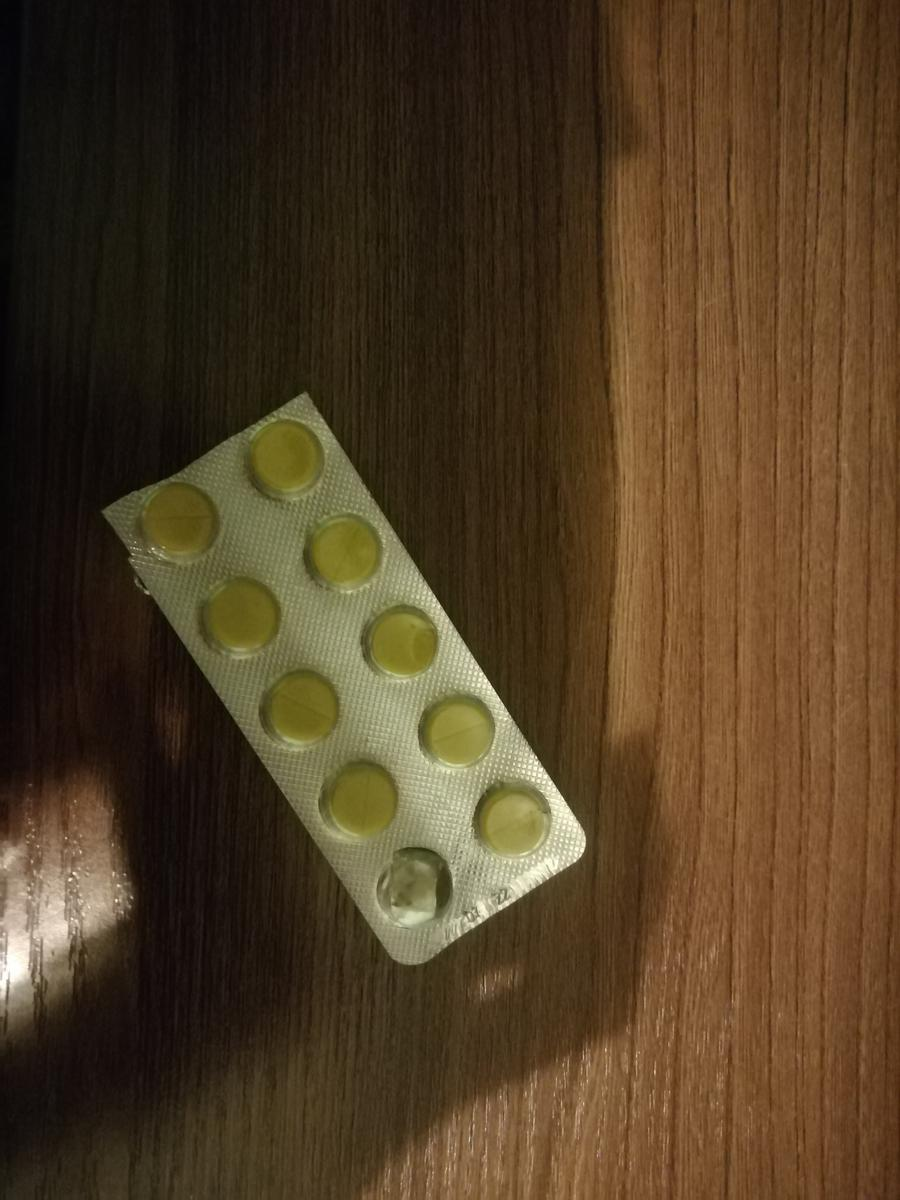tablet: (241, 414, 332, 500), (131, 475, 222, 561), (290, 508, 381, 594), (186, 571, 277, 657), (258, 661, 349, 747), (353, 600, 444, 686), (405, 684, 496, 770), (310, 752, 401, 838), (468, 773, 559, 859)
